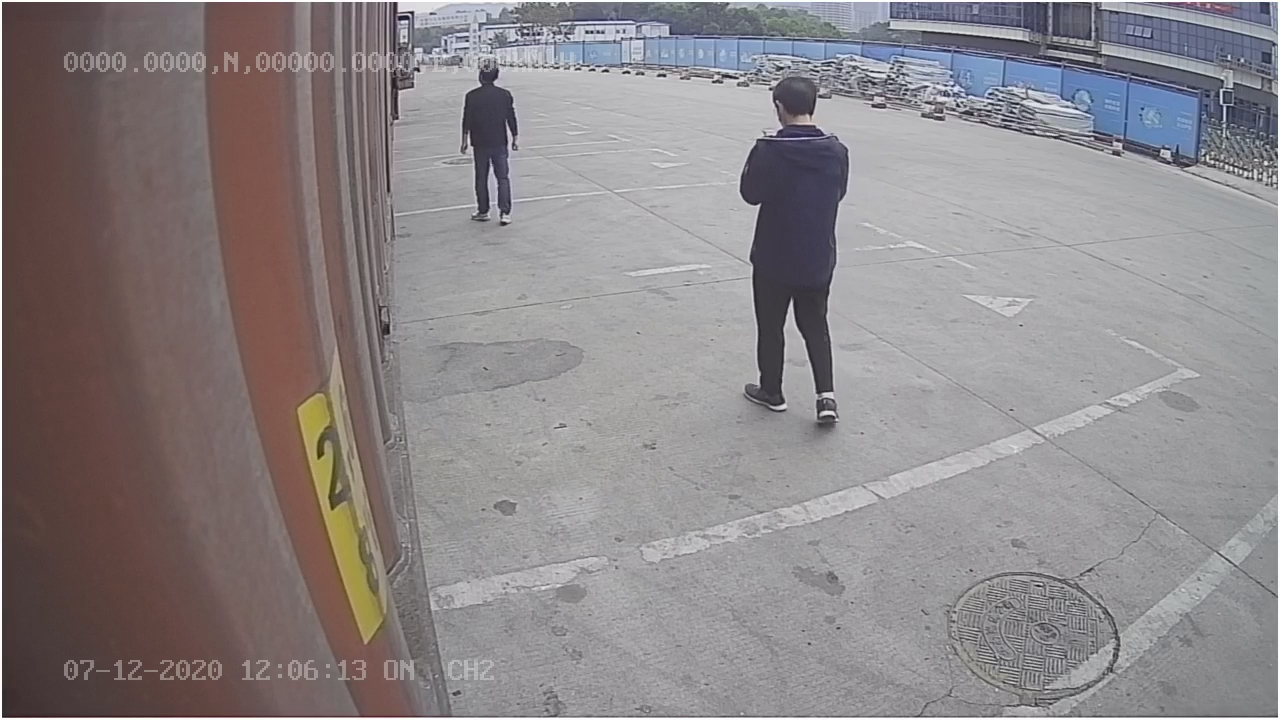person: (726, 67, 847, 432)
